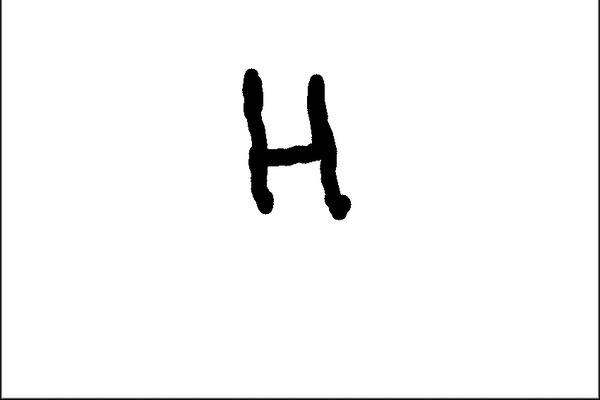H: (234, 63, 358, 224)
